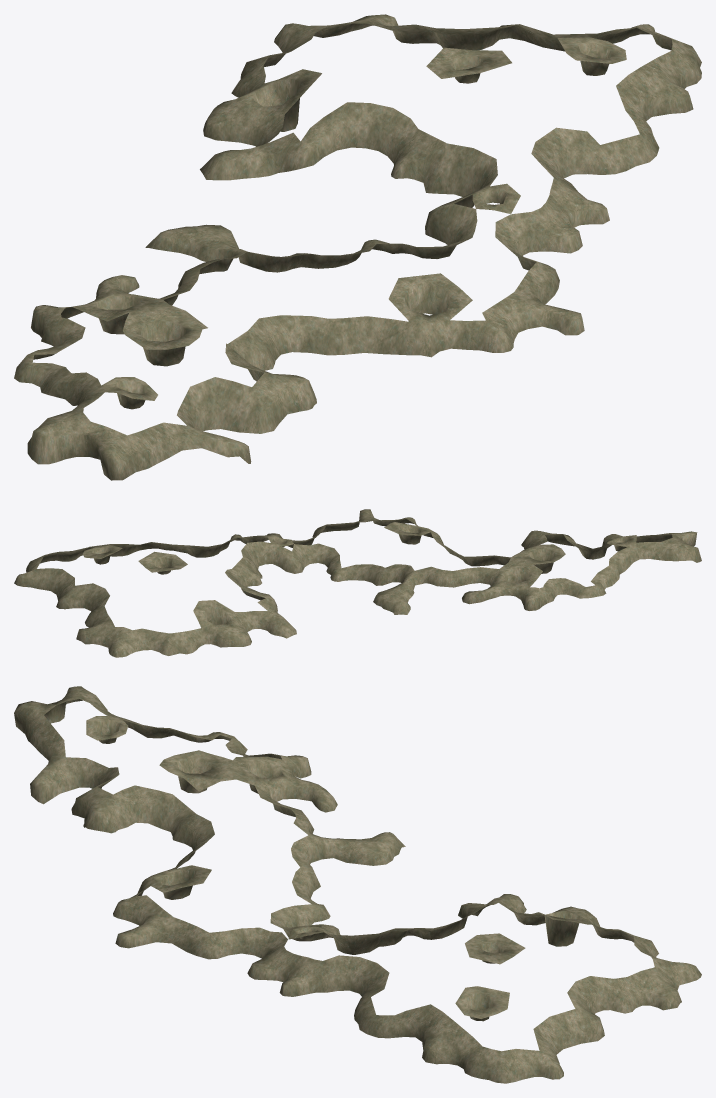
The model's file is EKH_CAVERNS_PS_CA_OBJECT17.fbx.
The picture shows the model from 3 angles, top to bottom: view 1: azimuth 30°, elevation 25°; view 2: azimuth 150°, elevation 25°; view 3: azimuth 270°, elevation 25°; orthographic projection. The views are drawn at different scales.
Parts seen in each view (by area): view 1: EKH_CAVERNS_PS_CA_OBJECT17; view 2: EKH_CAVERNS_PS_CA_OBJECT17; view 3: EKH_CAVERNS_PS_CA_OBJECT17.
Part boxes in pixels (x1=…): EKH_CAVERNS_PS_CA_OBJECT17: x1=14, y1=14, x2=701, y2=480; EKH_CAVERNS_PS_CA_OBJECT17: x1=14, y1=509, x2=701, y2=657; EKH_CAVERNS_PS_CA_OBJECT17: x1=14, y1=686, x2=701, y2=1083.
Bounding box in the file's own units: 994758 × 70028 × 815462.
Materials: 1 (1 with a texture image).
